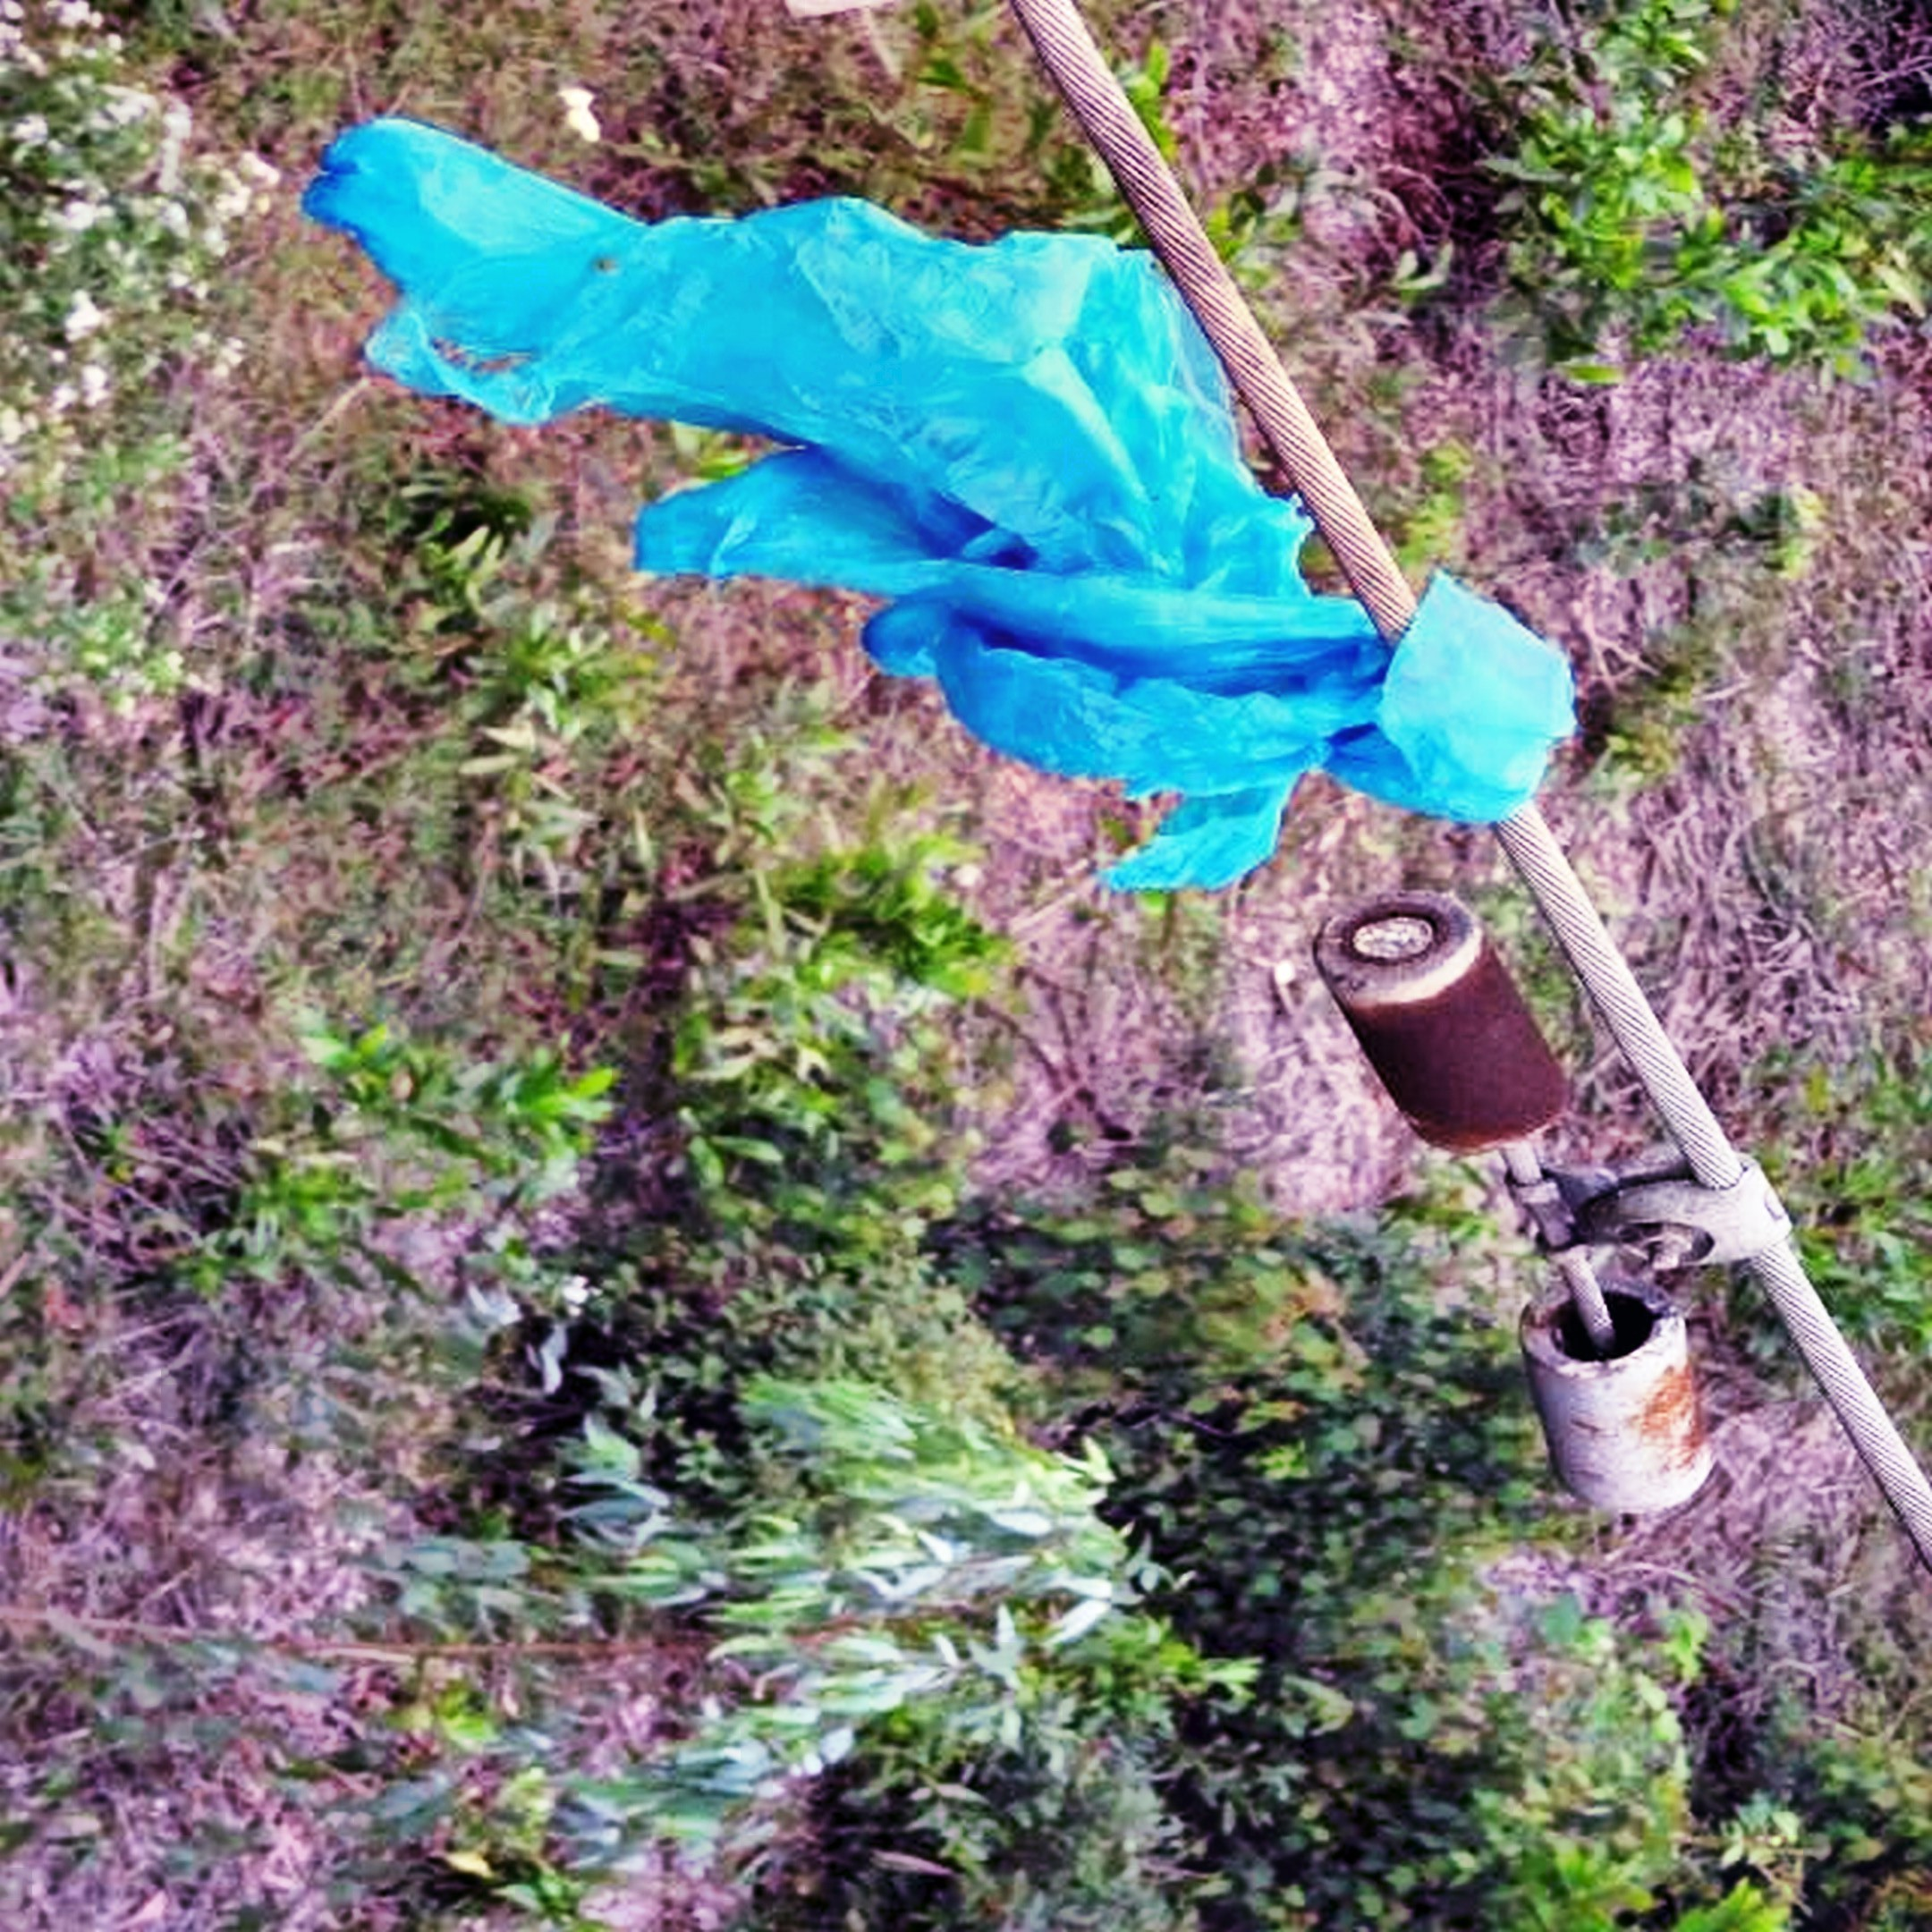wire foreign body: (326, 87, 1536, 888)
